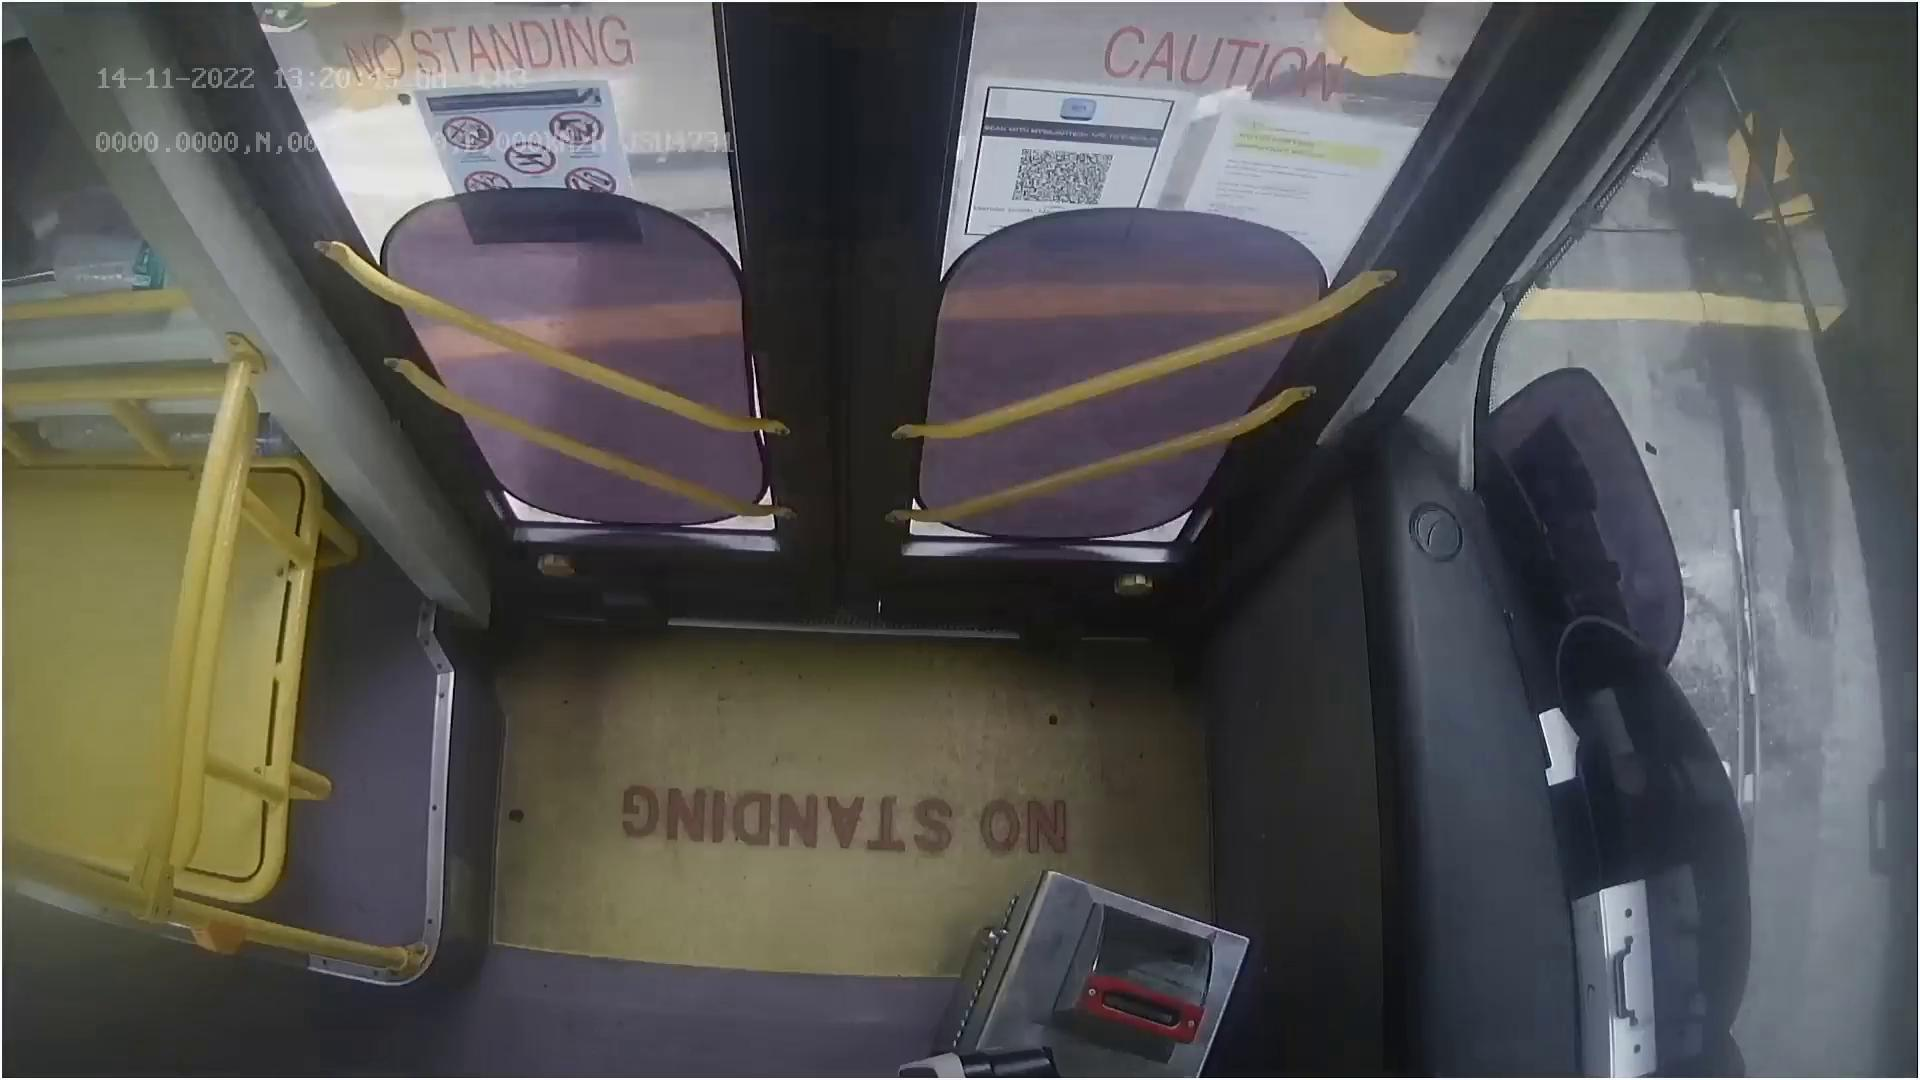close: (280, 0, 1457, 137)
